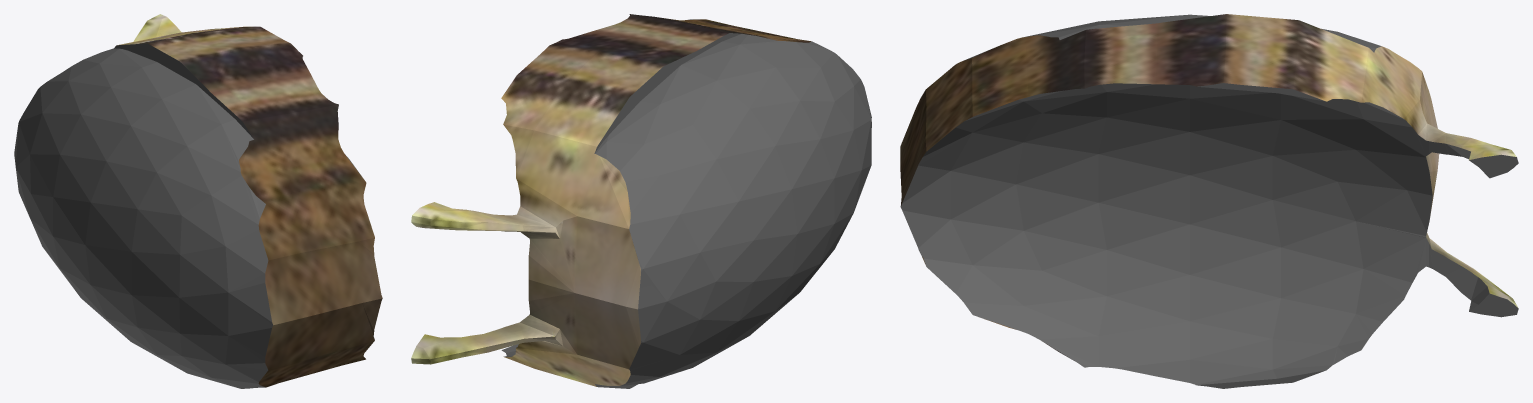
3 renders of one model, left to right at view 1: azimuth 30°, elevation 25°; view 2: azimuth 150°, elevation 25°; view 3: azimuth 270°, elevation 25°, orthographic. The views are drawn at different scales.
Visible parts, largest first — view 1: link_5_visual; view 2: link_5_visual; view 3: link_5_visual.
Part boxes in pixels (left/top/right/bottom): link_5_visual: left=14, top=14, right=382, bottom=388; link_5_visual: left=411, top=14, right=871, bottom=388; link_5_visual: left=900, top=14, right=1518, bottom=388.
Bounding box in the file's own units: 0.00175 × 0.00218 × 0.00378.
Materials: 1 (1 with a texture image).
